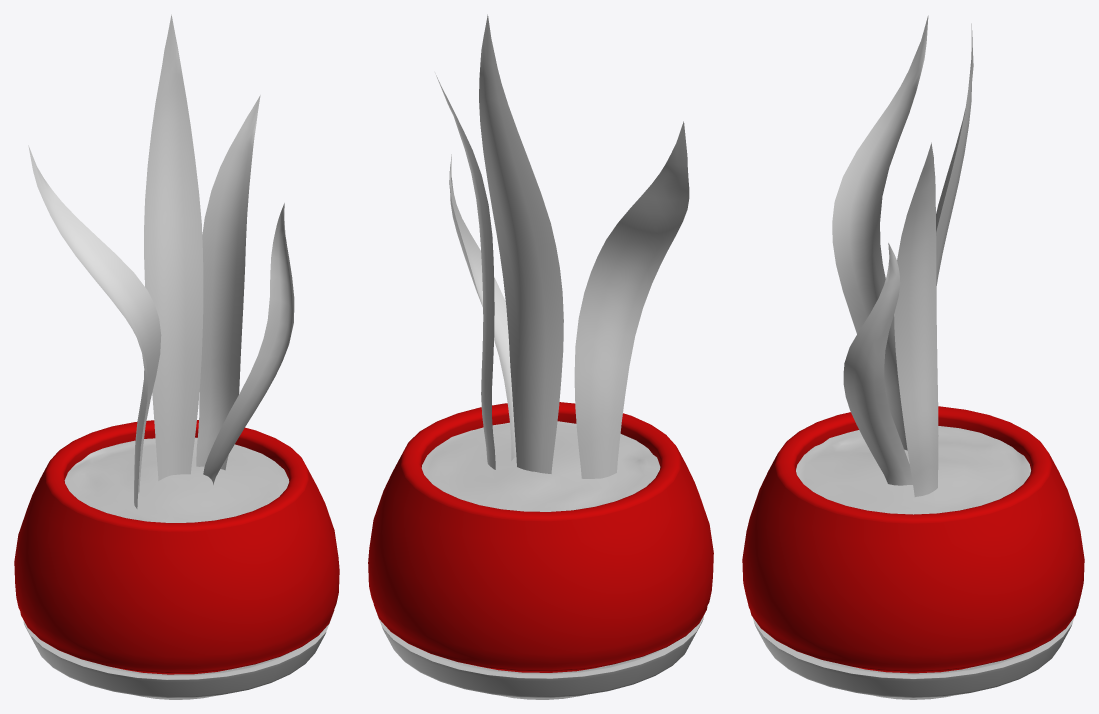
File: Plant Sansevieria.fbx
3 views of the same model, side by side, from view 1: azimuth 30°, elevation 25°; view 2: azimuth 150°, elevation 25°; view 3: azimuth 270°, elevation 25° (orthographic). The views are drawn at different scales.
Visible parts, largest first — view 1: Vase, Plant_Sansevieria; view 2: Vase, Plant_Sansevieria; view 3: Vase, Plant_Sansevieria.
Boxes of the visible parts, x1,y1,x2,y2 form: Vase: [14, 420, 339, 699]; Plant_Sansevieria: [28, 14, 294, 508]; Vase: [368, 402, 713, 699]; Plant_Sansevieria: [435, 14, 689, 478]; Vase: [742, 406, 1084, 699]; Plant_Sansevieria: [832, 15, 973, 496].
Bounding box in the file's own units: 40.9 × 86.43 × 40.85.
